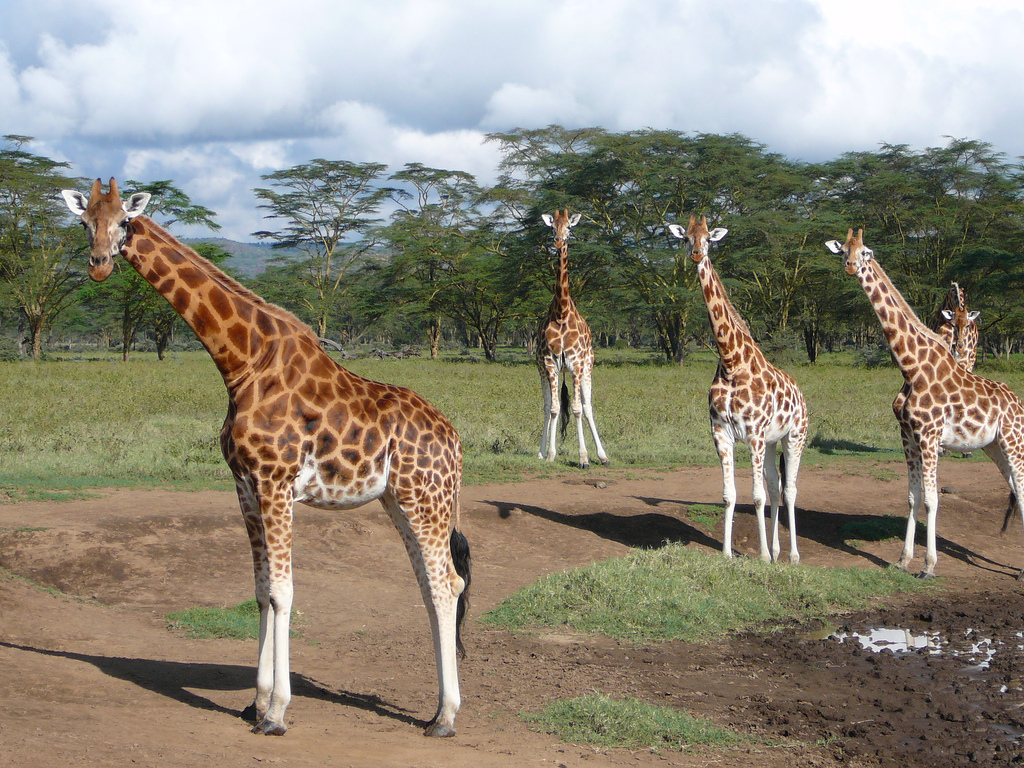giraffe: (25, 179, 490, 768), (834, 217, 1009, 579), (667, 195, 837, 565), (513, 194, 618, 505), (930, 274, 985, 383)
